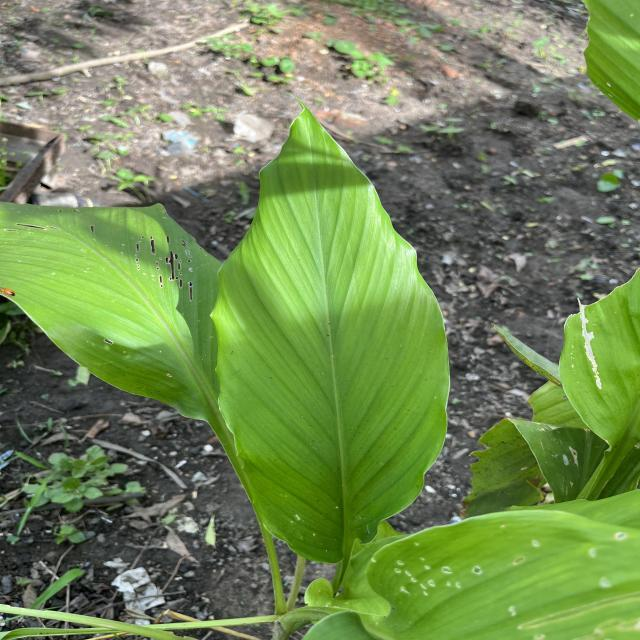Curcuma longa: (204, 85, 454, 572)
